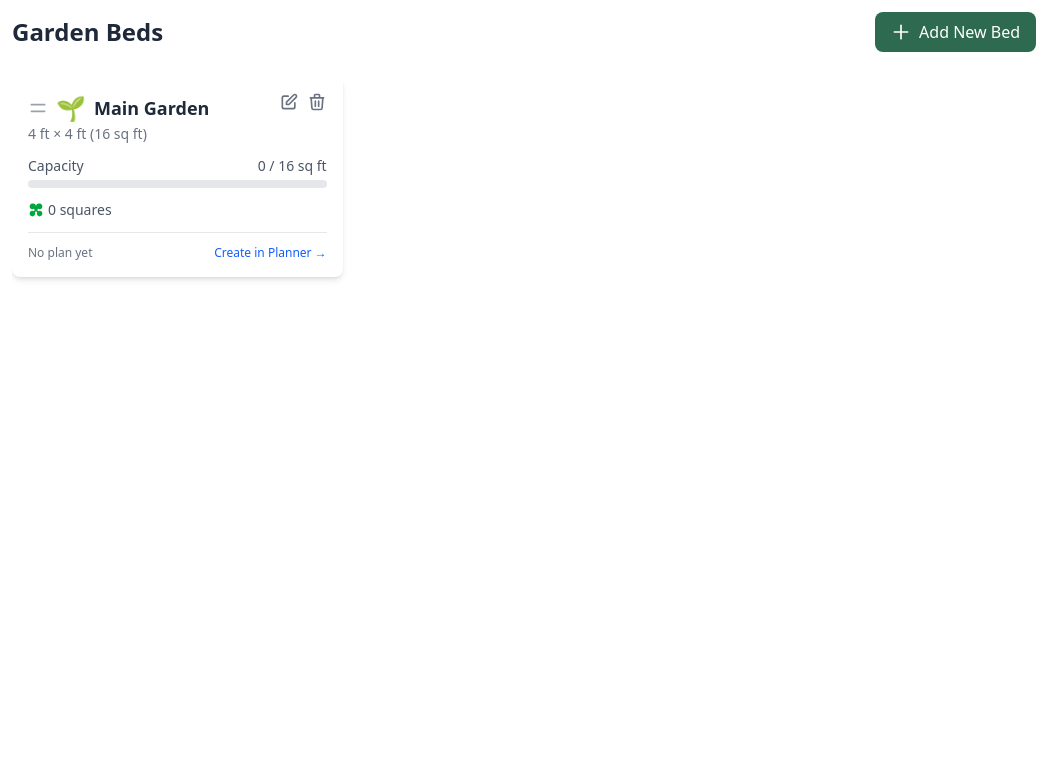
Test: BedManager › editing beds › shows edit form when edit clicked
The width and height of the screenshot is (1048, 780).
Click the button named "Edit Main Garden".
click(289, 102)  # box [279, 92, 299, 112]
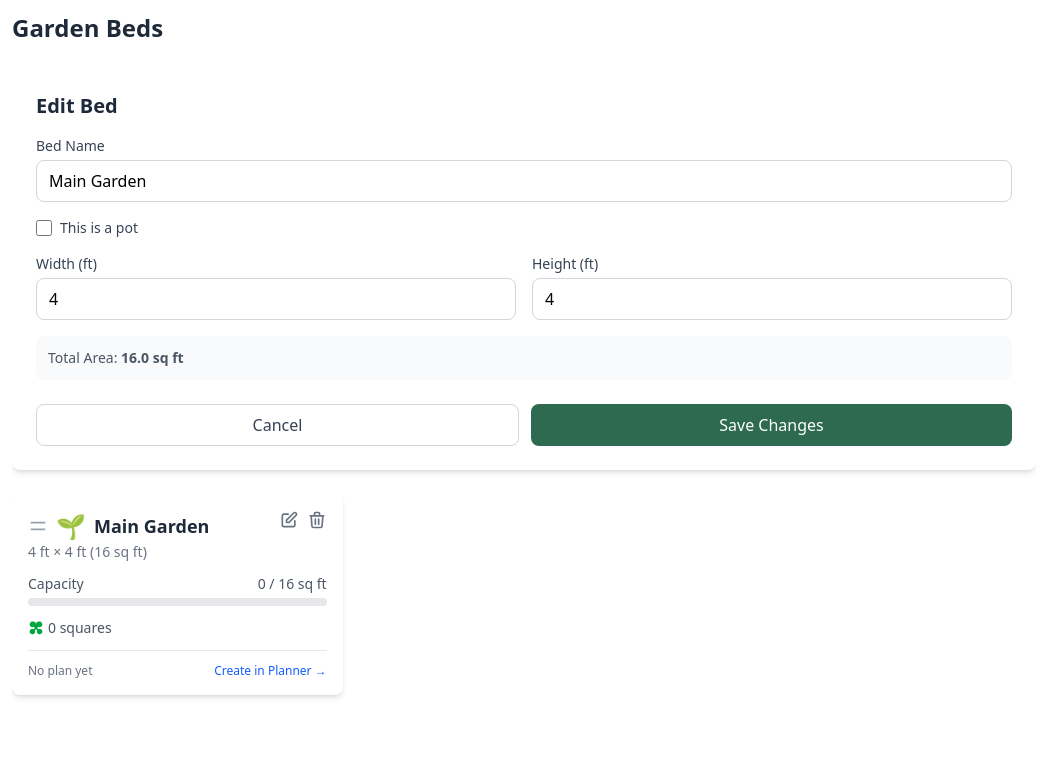
Check: the heading "Edit Bed" is shown, box [36, 92, 118, 119]
Check: the field labelled "Bed Name" holds "Main Garden", box [36, 160, 1012, 202]
